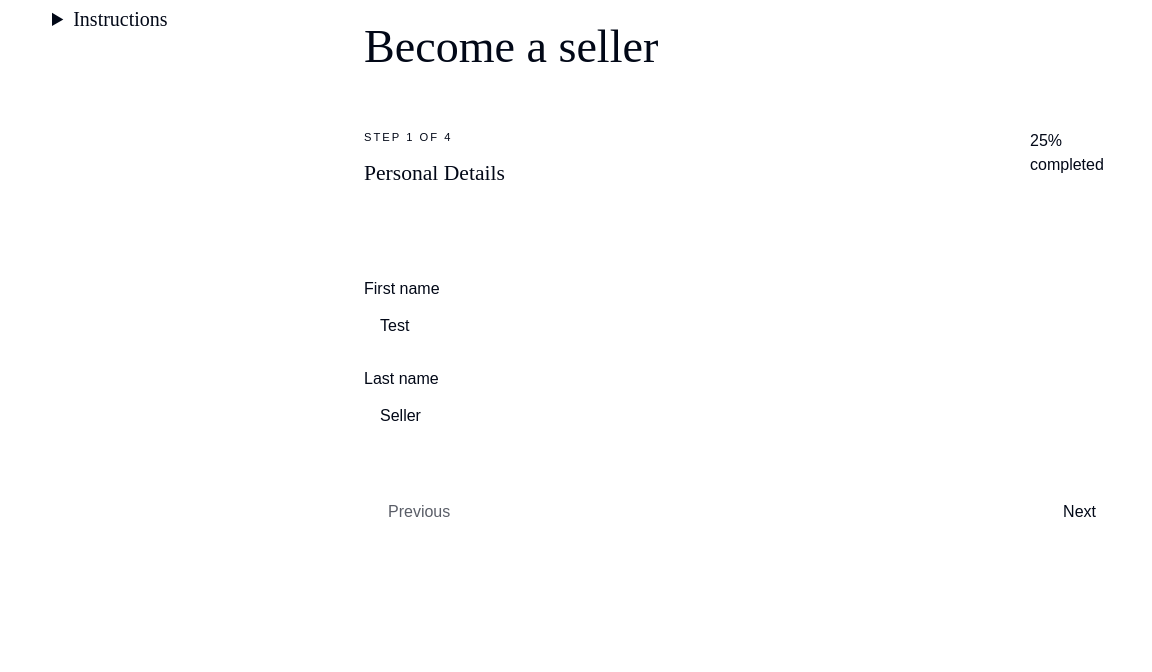
Scenario: advances to labeled store inputs and preserves edits when returning
Click the button "Next" at (1080, 512), box [1039, 489, 1120, 535]
(page scrolled)
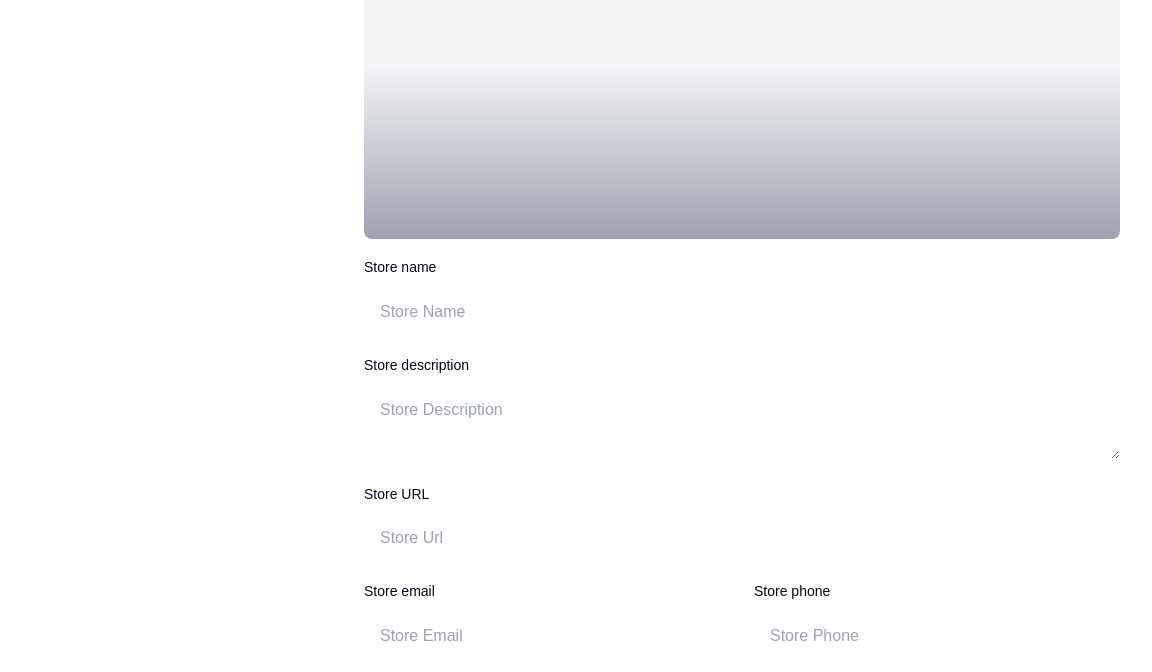
Type "Example Store" into the field labelled "Store name" at (742, 312), box [364, 288, 1120, 337]
(page scrolled)
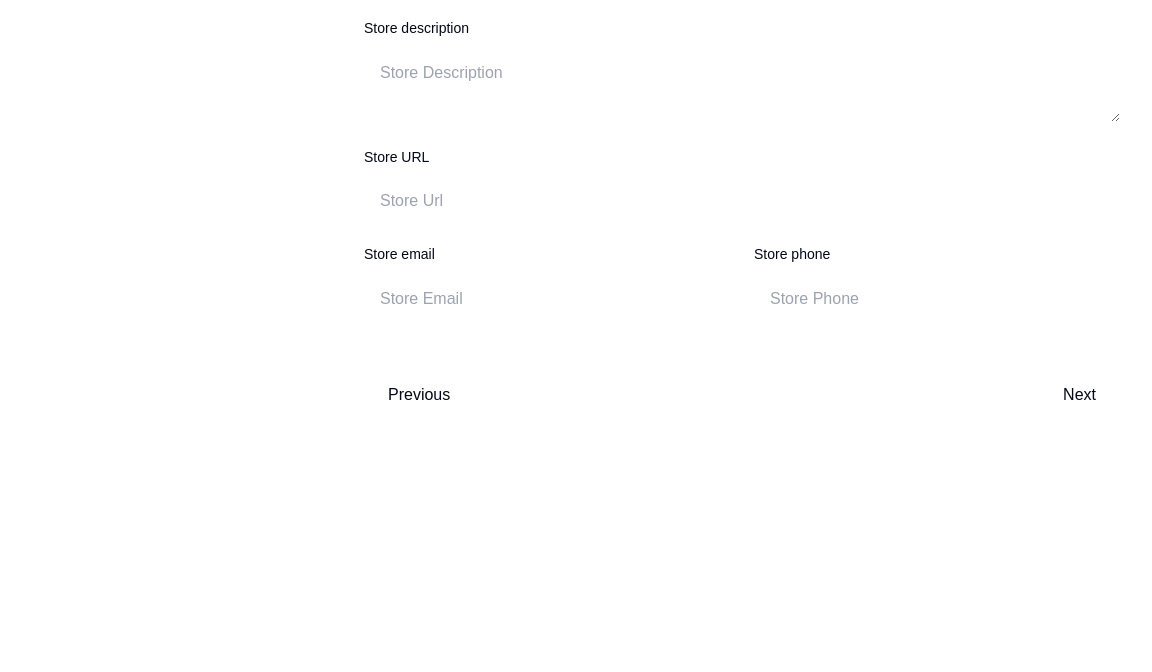
Click the button "Previous" at (419, 395), box [364, 372, 474, 418]
(page scrolled)
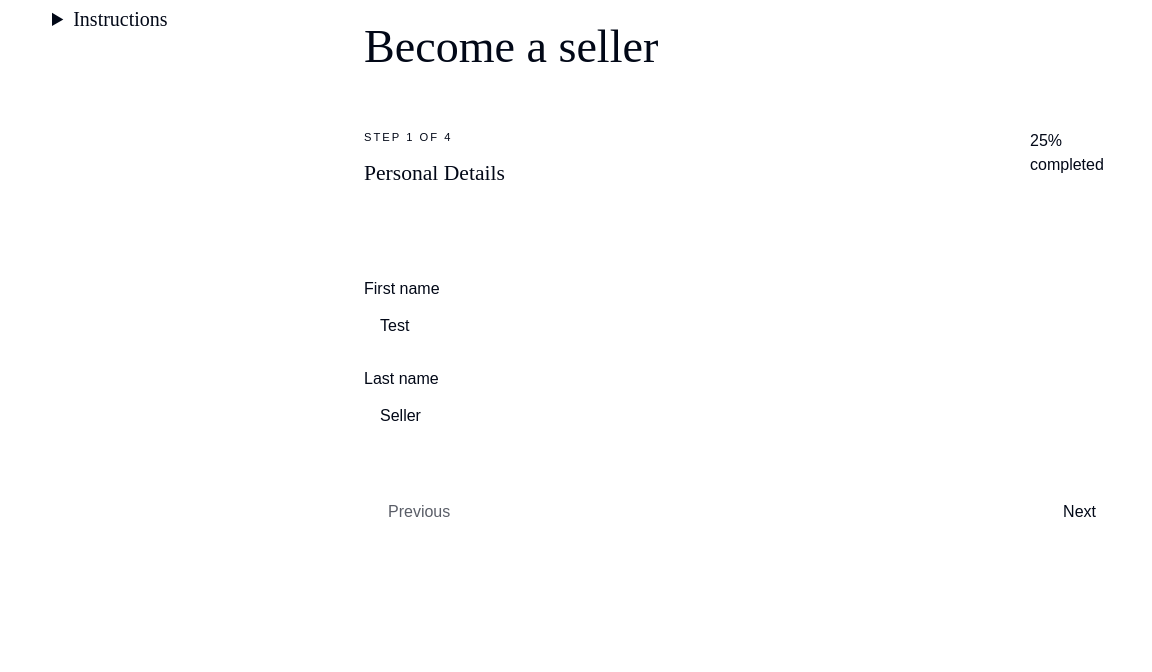
Click the button "Next" at (1080, 512), box [1039, 489, 1120, 535]
(page scrolled)
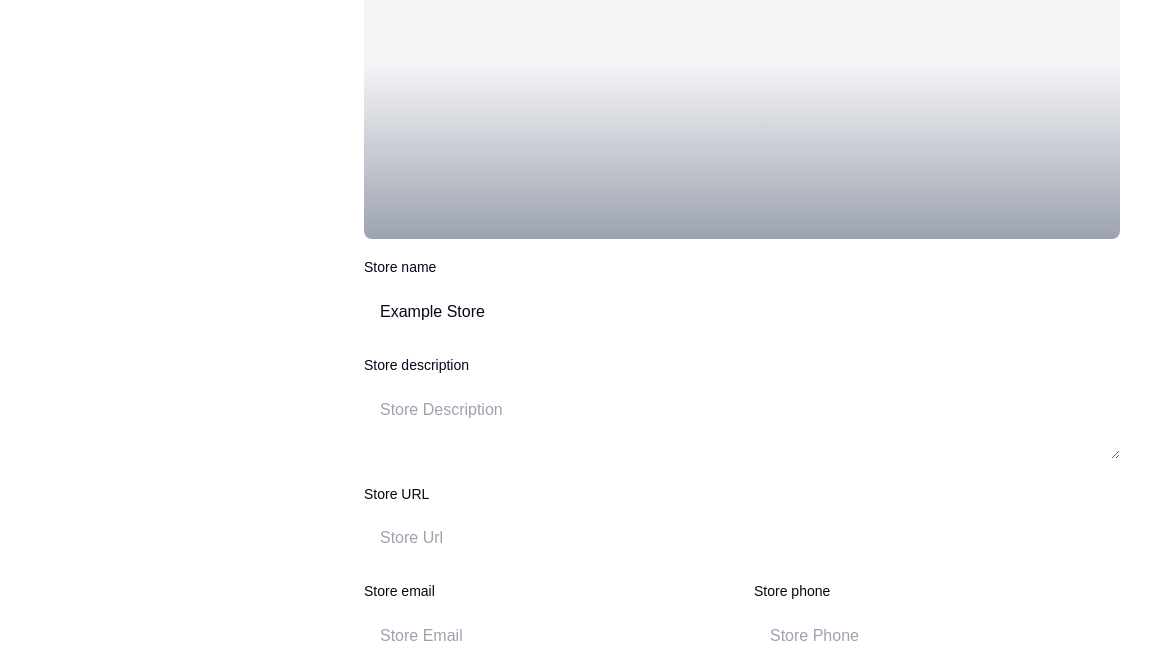
Now the field labelled "Store name" holds "Example Store", box [364, 288, 1120, 337]
